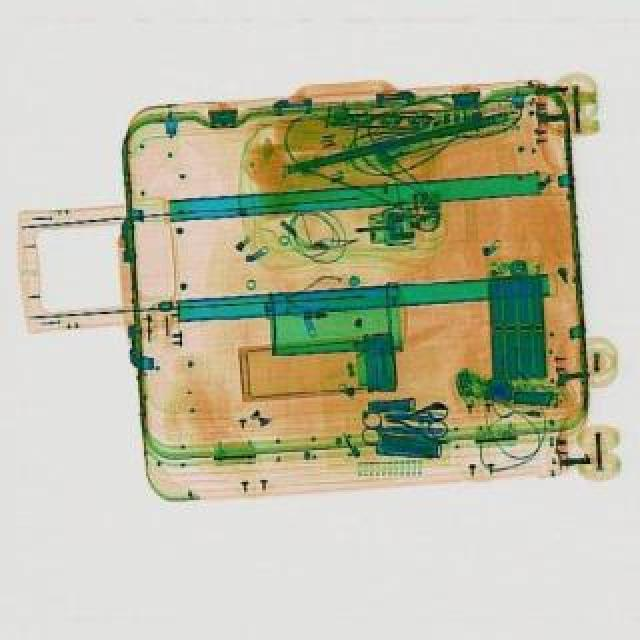pliers: (360, 412, 446, 454), (382, 410, 446, 438)
